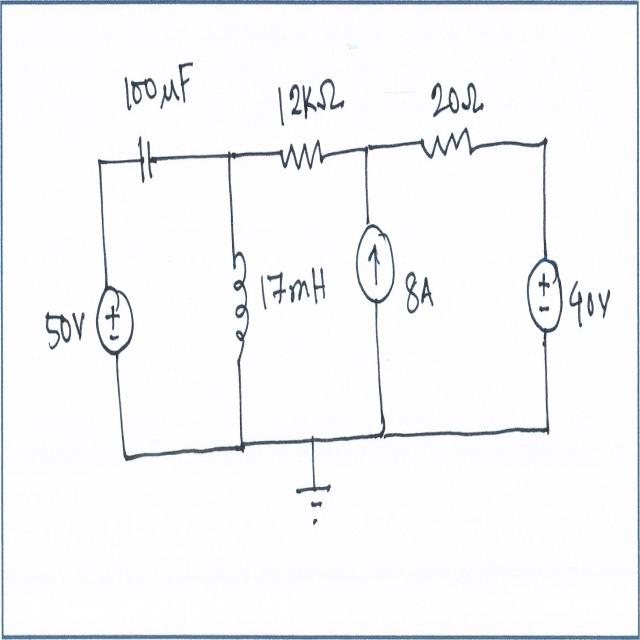capacitor: (134, 128, 162, 191)
current_source: (352, 217, 398, 309)
ground: (291, 482, 334, 535)
inductor: (230, 243, 252, 376)
resistor: (415, 122, 477, 164), (271, 137, 330, 176)
voltage_source: (524, 249, 570, 341), (94, 276, 137, 367)
